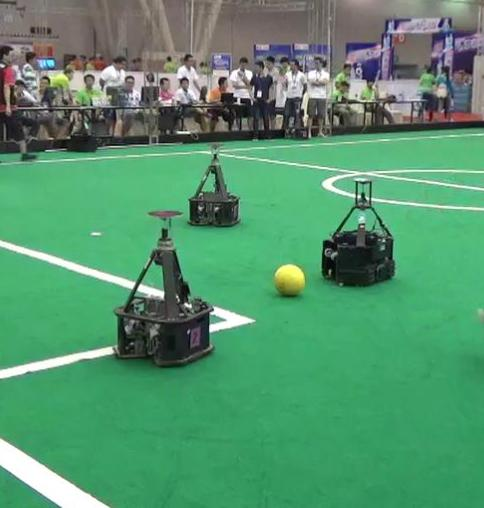robot: (112, 203, 215, 370), (316, 172, 400, 285), (187, 138, 241, 228)
